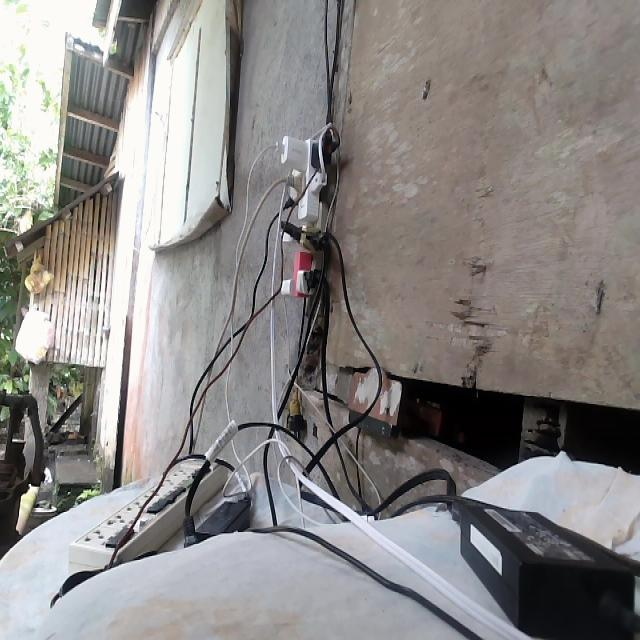-: (274, 134, 339, 298)
